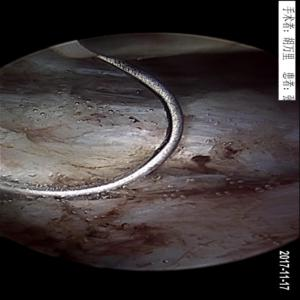film: (52, 138, 293, 241)
